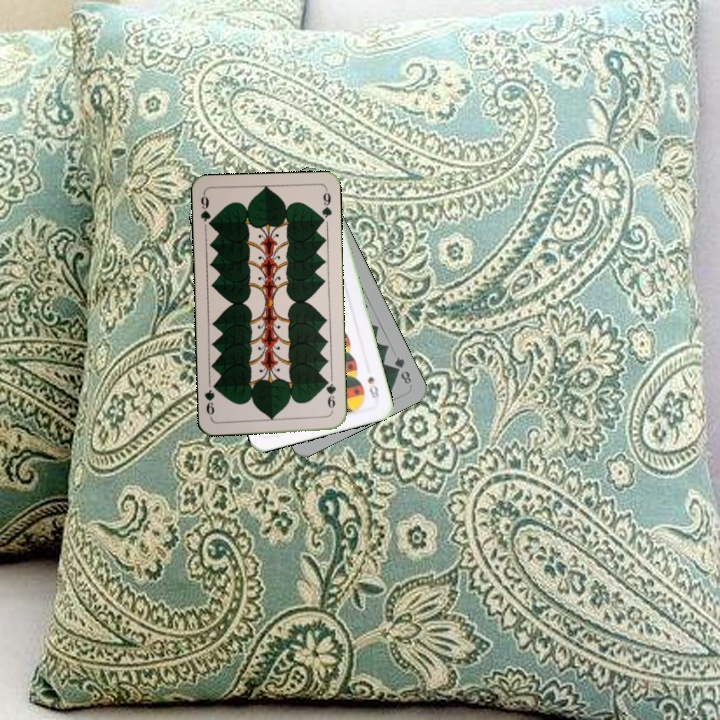G8: (390, 353, 414, 387)
G9: (196, 190, 216, 230), (321, 375, 339, 415)
S8: (364, 372, 382, 401)
